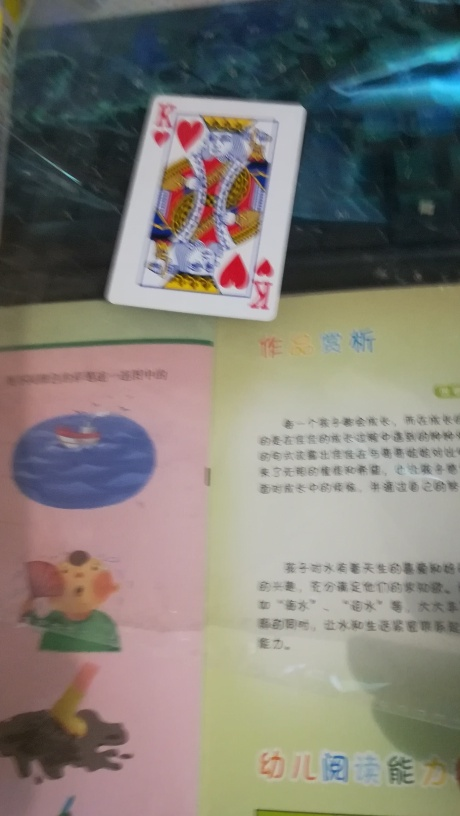hx k: (105, 86, 285, 321)
